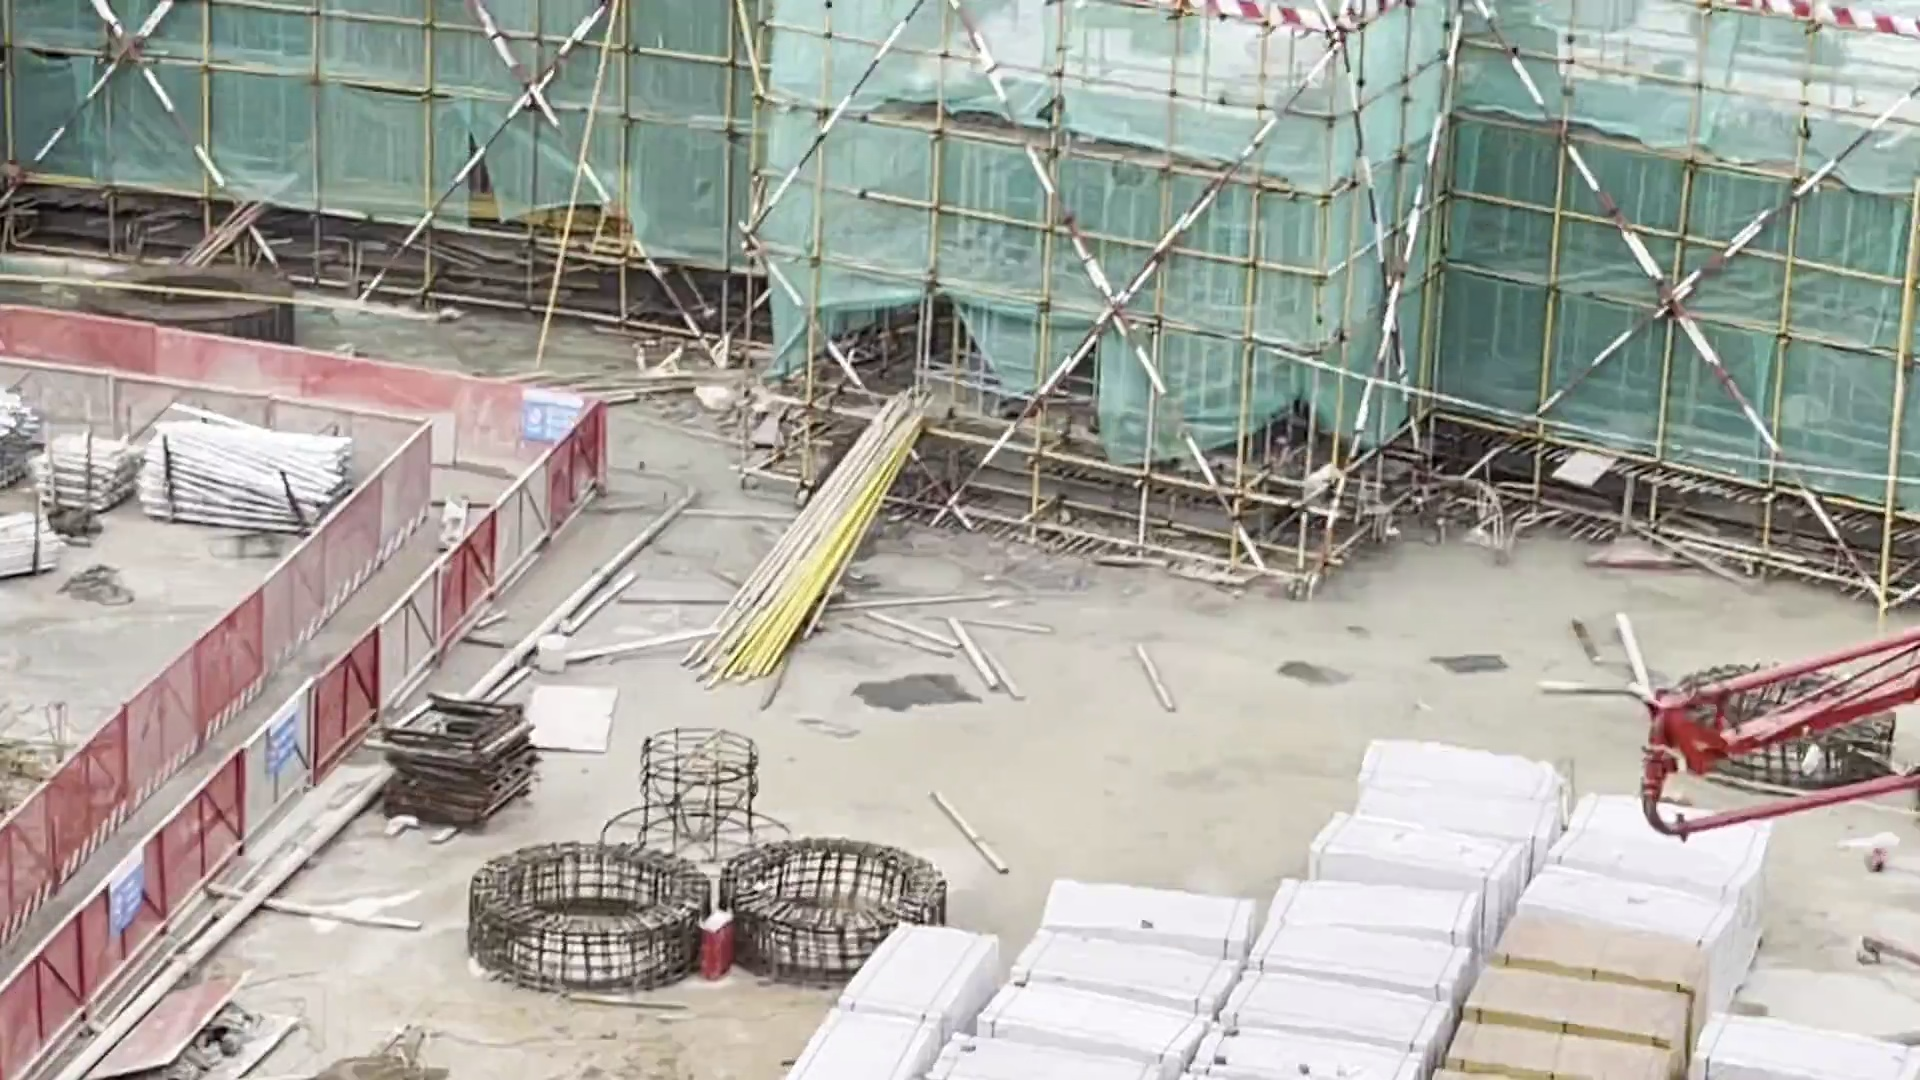board: (1437, 894, 1689, 1080)
fence: (22, 636, 316, 1044), (21, 286, 618, 469), (251, 451, 571, 703)
scaffold: (144, 392, 315, 524), (25, 422, 138, 531)
slogan: (104, 835, 167, 924), (258, 703, 322, 771), (520, 380, 582, 440)
